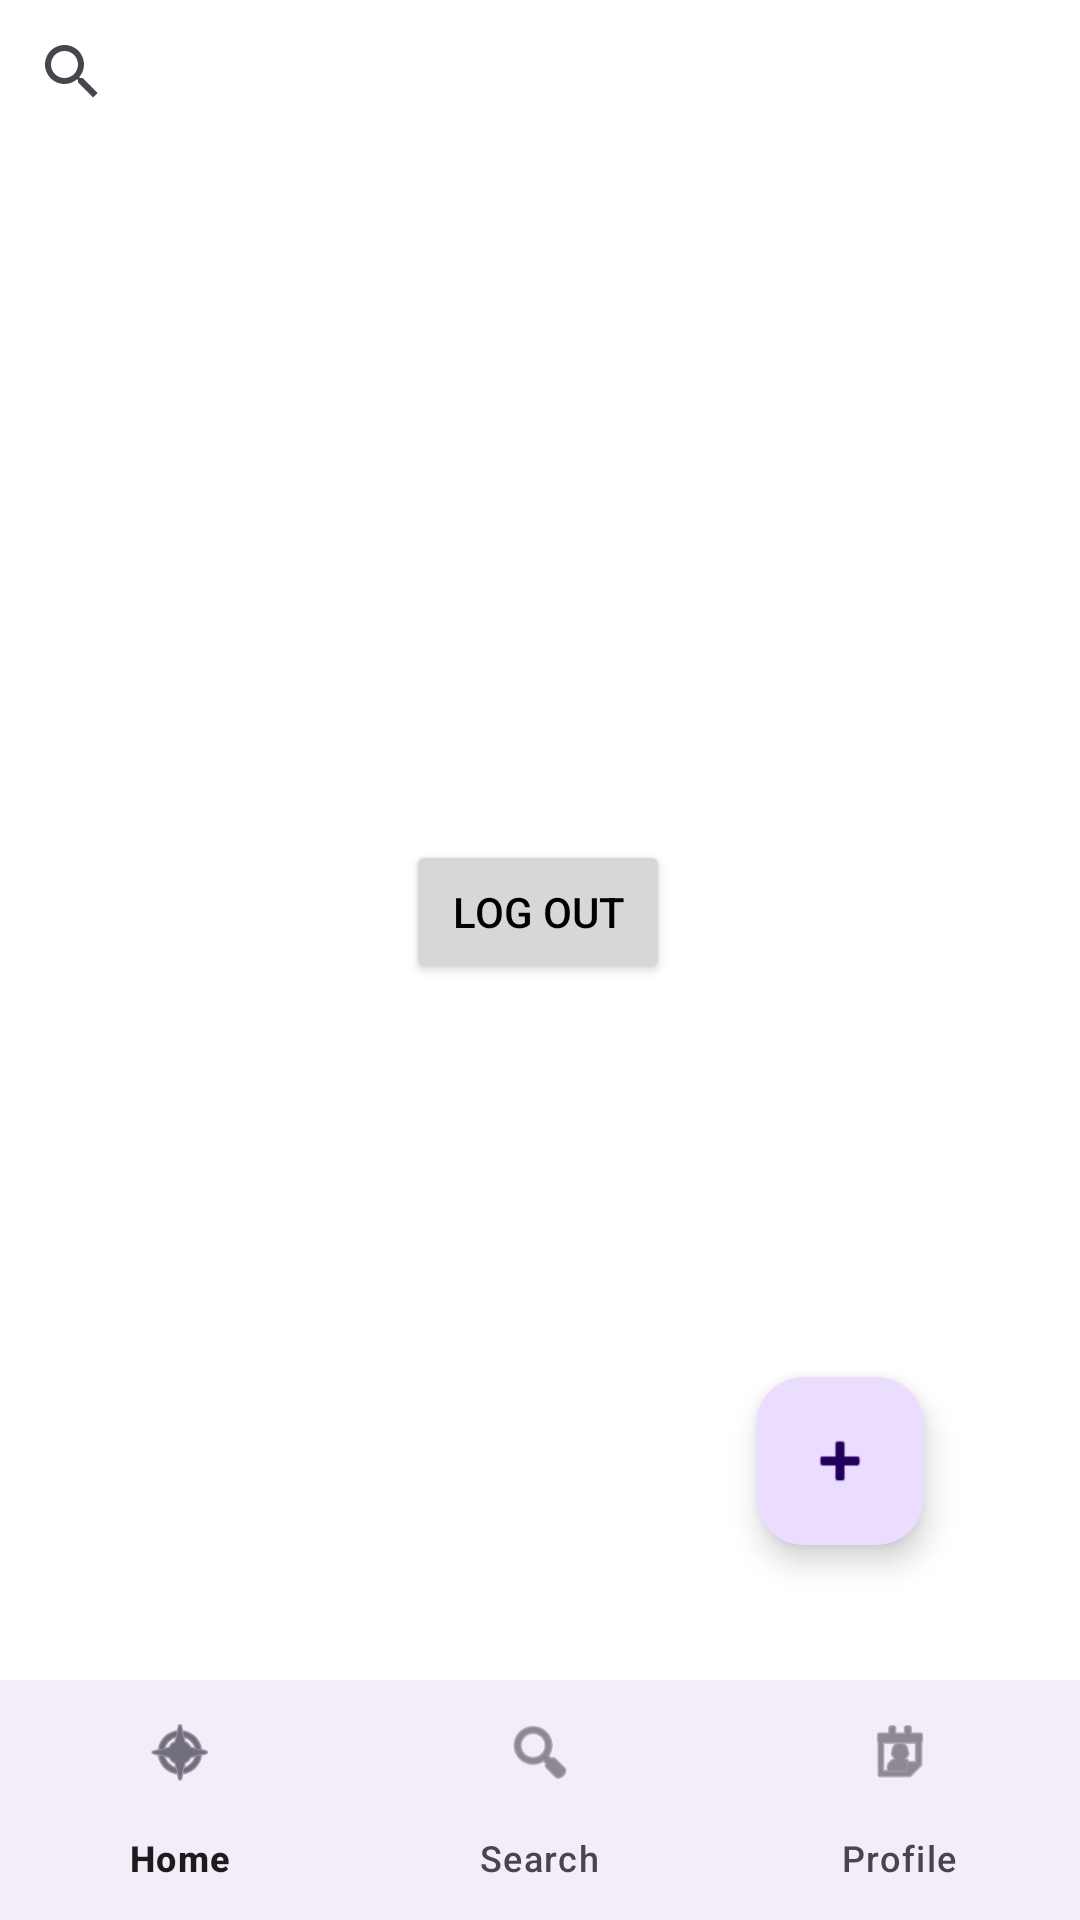

Screen size 1080px x 1920px. Icon name, then its center in pixels as point (x, y):
add: point (840, 1461)
